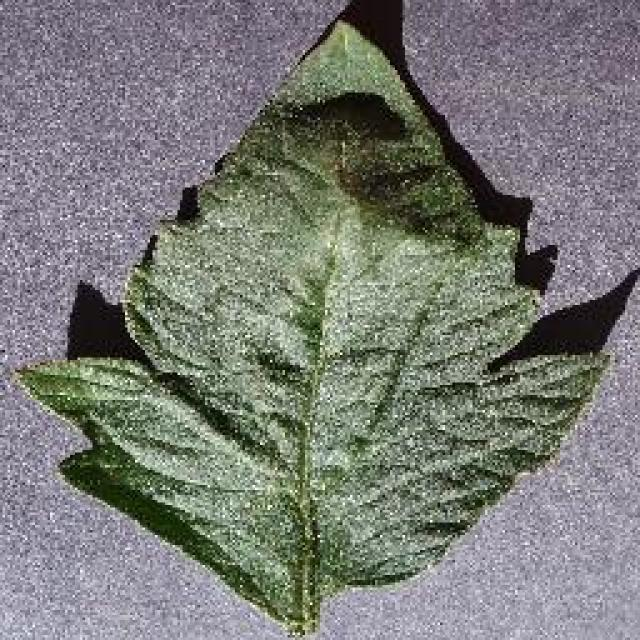Tomato healthy leaf: (26, 26, 604, 602)
